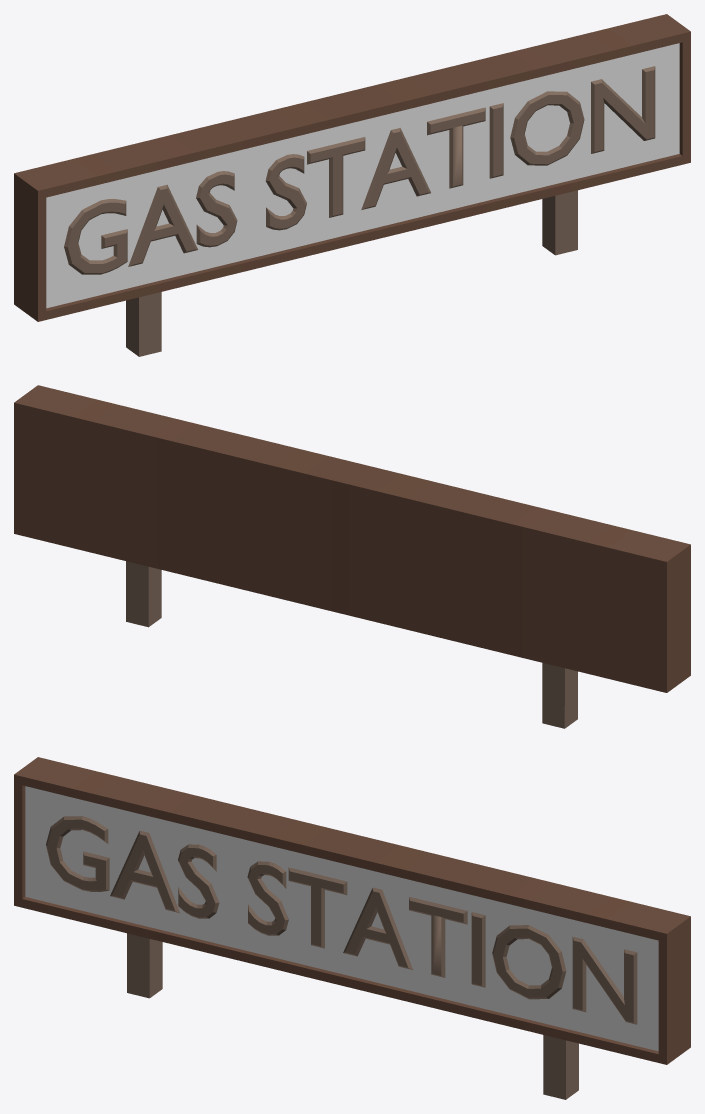
Rendered from Banner_05.fbx.
3 views of the same model, one above another, from view 1: azimuth 30°, elevation 25°; view 2: azimuth 150°, elevation 25°; view 3: azimuth 330°, elevation 25° (orthographic).
Parts seen in each view (by area): view 1: Banner_05; view 2: Banner_05; view 3: Banner_05.
Boxes of the visible parts, bbox=[...] form: Banner_05: bbox=[14, 14, 690, 356]; Banner_05: bbox=[14, 385, 690, 728]; Banner_05: bbox=[14, 757, 690, 1099].
Bounding box in the file's own units: 439 × 126 × 28.01.
